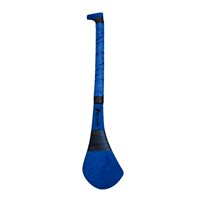hurley: (81, 11, 124, 191)
